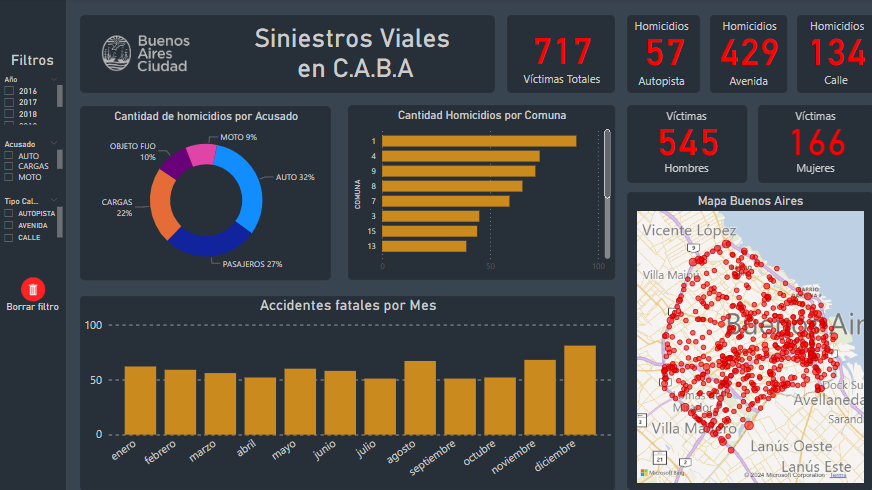

This screenshot's page, from the dashboard's own definition file:
{"tool":"powerbi","page":{"name":"Homicidios","canvas":[1280,720],"ordinal":0},"visuals":[{"type":"shape","box":[919,283.9,361.5,436.1],"z":0},{"type":"card","title":"Víctimas Totales","fields":{"Values":["victimas.Cant Victimas Total"]},"box":[743.4,24.9,158,114.1],"z":1000},{"type":"lineStackedColumnComboChart","title":"Accidentes fatales por Mes","fields":{"Category":["victimas.FECHA.Variación.Jerarquía de fechas.Mes"],"Y":["CountNonNull(victimas.VICTIMA)"]},"box":[118.5,436.1,782.9,283.9],"z":2000},{"type":"shape","box":[0,0,98,720],"z":3000},{"type":"slicer","fields":{"Values":["victimas.FECHA.Variación.Jerarquía de fechas.Año"]},"box":[0,107.8,98,82],"z":4000},{"type":"map","title":"Mapa Buenos Aires","fields":{"X":["homicidios.LONGITUD"],"Y":["homicidios.LATITUD"],"Size":["CountNonNull(victimas.VICTIMA)"]},"box":[929.3,285.4,341,428.8],"z":5000},{"type":"shape","box":[118.5,24.9,607.3,114.1],"z":6000},{"type":"image","box":[130.2,39.5,169.8,83.4],"z":7000},{"type":"slicer","fields":{"Values":["homicidios.TIPO_DE_CALLE"]},"box":[0,285.4,98,82],"z":9000},{"type":"clusteredBarChart","title":"Cantidad Homicidios por Comuna","fields":{"Y":["homicidios.Cant Homicidios Total"],"Category":["homicidios.COMUNA"]},"box":[510.7,156.6,390.7,256.1],"z":10000},{"type":"textbox","box":[336.6,30.7,370.2,99.5],"z":11000},{"type":"image","box":[20.5,403.4,58.5,45.4],"z":12000},{"type":"card","fields":{"Values":["homicidios.Cant Homicidios Total"]},"box":[919,24.9,106.8,114.1],"z":13000},{"type":"card","fields":{"Values":["homicidios.Cant Homicidios Total"]},"box":[1040.5,24.9,112.7,114.1],"z":14000},{"type":"card","fields":{"Values":["homicidios.Cant Homicidios Total"]},"box":[1167.8,24.9,112.7,114.1],"z":15000},{"type":"textbox","box":[913.2,105.4,112.7,38],"z":16000},{"type":"textbox","box":[1040.5,105.4,112.7,38],"z":17000},{"type":"textbox","box":[1173.7,103.9,102.4,38],"z":18000},{"type":"card","fields":{"Values":["victimas.Cant Victimas Total"]},"box":[919,156.6,175.6,114.1],"z":19000},{"type":"card","fields":{"Values":["victimas.Cant Victimas Total"]},"box":[1110.7,156.6,169.8,114.1],"z":20000},{"type":"textbox","box":[913.2,24.9,112.7,38],"z":21000},{"type":"textbox","box":[1042,24.9,112.7,38],"z":22000},{"type":"textbox","box":[1175.1,24.9,102.4,38],"z":23000},{"type":"textbox","box":[949.8,156.6,112.7,38],"z":24000},{"type":"textbox","box":[1138.5,156.6,112.7,38],"z":25000},{"type":"textbox","box":[949.8,232.7,112.7,38],"z":26000},{"type":"textbox","box":[1138.5,232.7,112.7,38],"z":27000},{"type":"slicer","fields":{"Values":["homicidios.ACUSADO"]},"box":[0,201.5,98,73.2],"z":29000},{"type":"textbox","box":[0,72.7,98,35.1],"z":31000},{"type":"textbox","box":[0,437.6,98,32.2],"z":33000},{"type":"donutChart","title":"Cantidad de homicidios por Acusado","fields":{"Category":["homicidios.ACUSADO"],"Y":["homicidios.Cant Homicidios Total"]},"box":[118.5,158,367.3,254.6],"z":34000}]}

Visuals, with their boxes in screenshot pixels (x1, y1, x2, y2), scaled from the page's 1280x720 canvas onto the 872x490 screenshot:
shape: rect(626, 193, 871, 489)
"Víctimas Totales" card: rect(506, 17, 614, 95)
"Accidentes fatales por Mes" lineStackedColumnComboChart: rect(81, 297, 614, 489)
shape: rect(0, 0, 67, 489)
slicer - victimas.FECHA.Variación.Jerarquía de fechas.Año: rect(0, 73, 67, 129)
"Mapa Buenos Aires" map: rect(633, 194, 865, 486)
shape: rect(81, 17, 494, 95)
image: rect(89, 27, 204, 84)
slicer - homicidios.TIPO_DE_CALLE: rect(0, 194, 67, 250)
"Cantidad Homicidios por Comuna" clusteredBarChart: rect(348, 107, 614, 281)
textbox: rect(229, 21, 482, 89)
image: rect(14, 275, 54, 305)
card - homicidios.Cant Homicidios Total: rect(626, 17, 699, 95)
card - homicidios.Cant Homicidios Total: rect(709, 17, 786, 95)
card - homicidios.Cant Homicidios Total: rect(796, 17, 871, 95)
textbox: rect(622, 72, 699, 98)
textbox: rect(709, 72, 786, 98)
textbox: rect(800, 71, 869, 97)
card - victimas.Cant Victimas Total: rect(626, 107, 746, 184)
card - victimas.Cant Victimas Total: rect(757, 107, 871, 184)
textbox: rect(622, 17, 699, 43)
textbox: rect(710, 17, 787, 43)
textbox: rect(801, 17, 870, 43)
textbox: rect(647, 107, 724, 132)
textbox: rect(776, 107, 852, 132)
textbox: rect(647, 158, 724, 184)
textbox: rect(776, 158, 852, 184)
slicer - homicidios.ACUSADO: rect(0, 137, 67, 187)
textbox: rect(0, 49, 67, 73)
textbox: rect(0, 298, 67, 320)
"Cantidad de homicidios por Acusado" donutChart: rect(81, 108, 331, 281)
